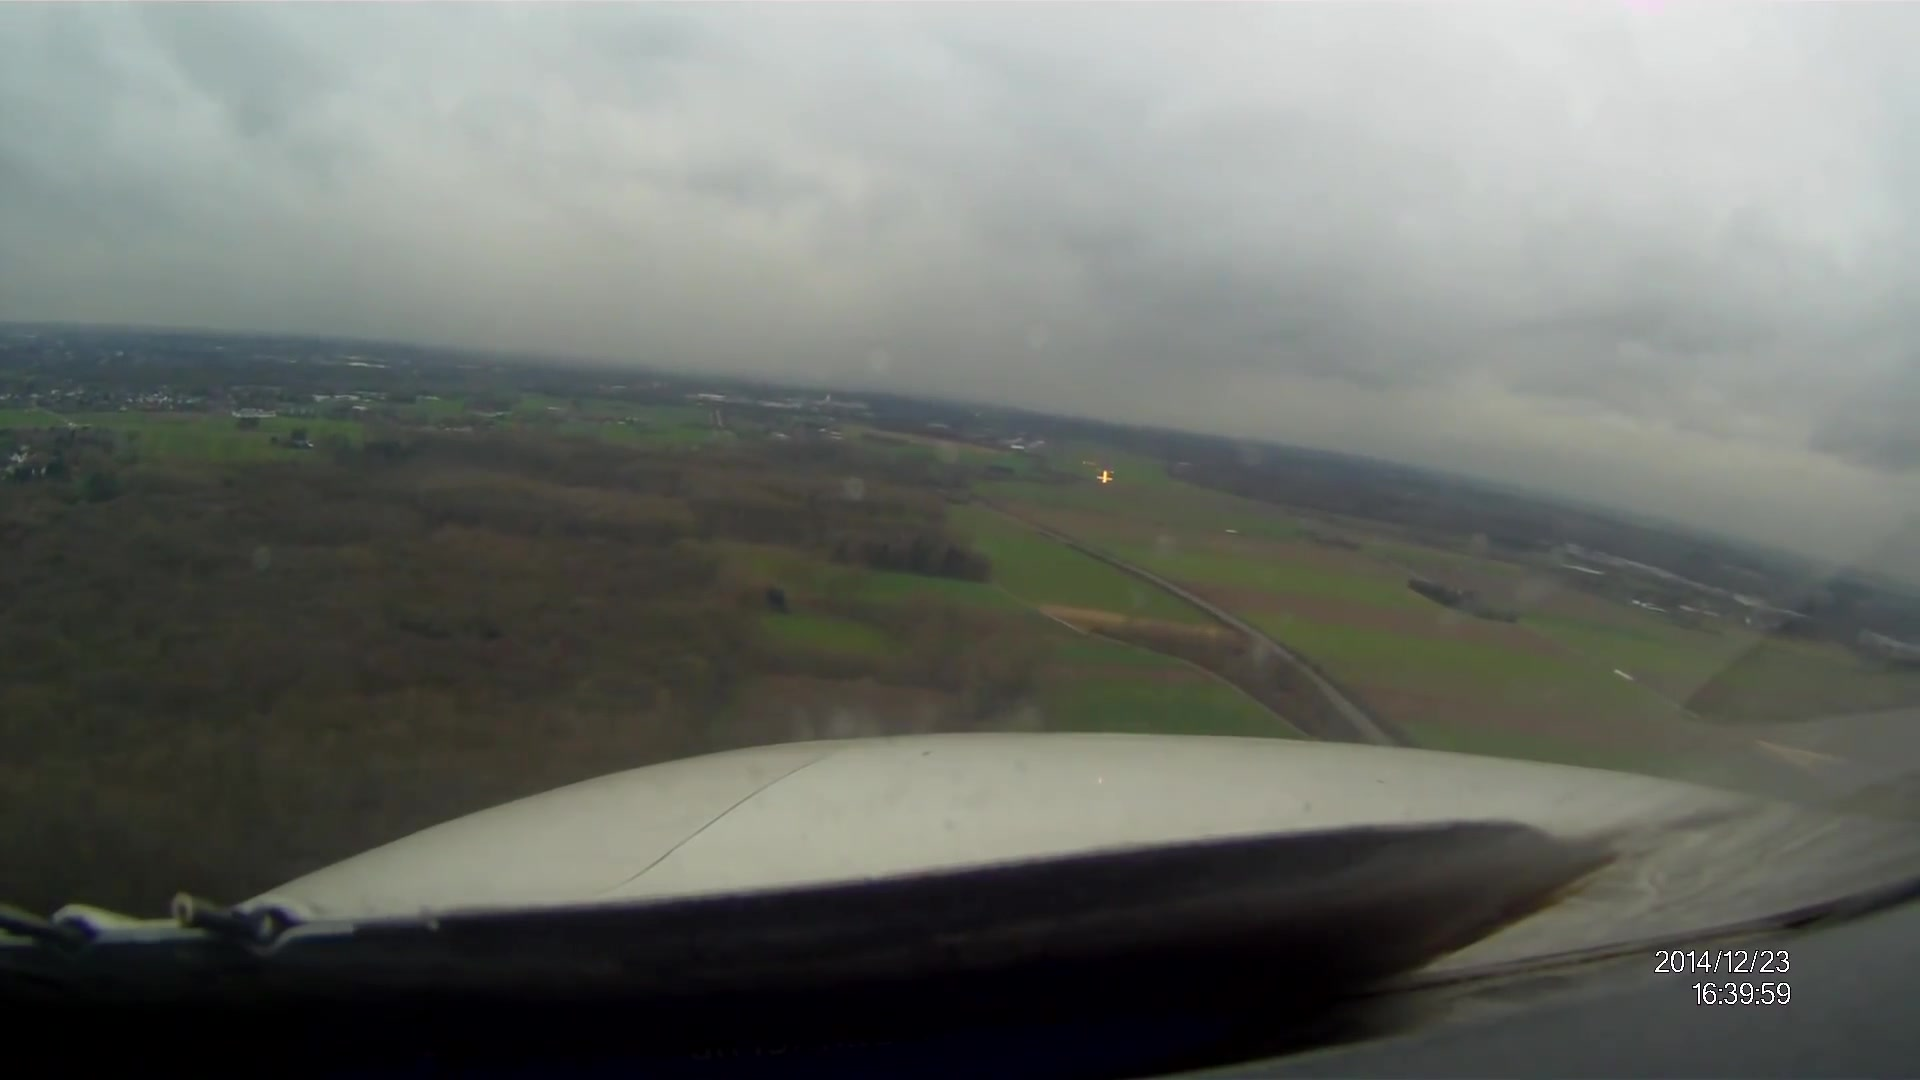runway: (1092, 444, 1118, 481)
